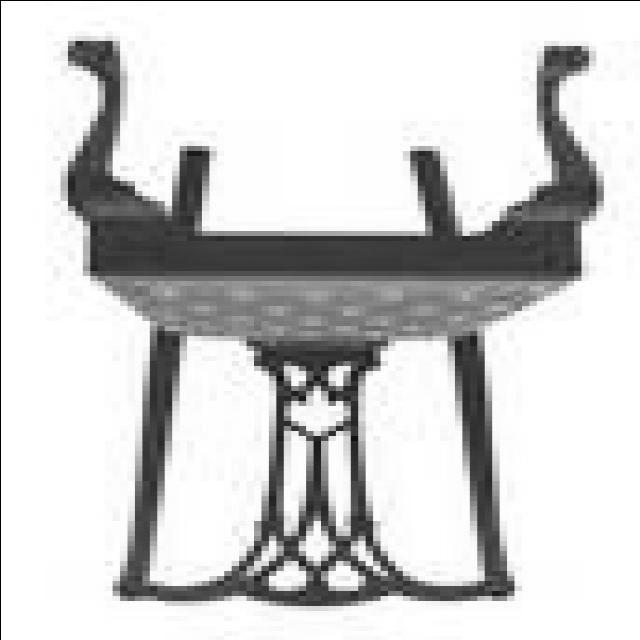chair: (60, 37, 602, 610)
